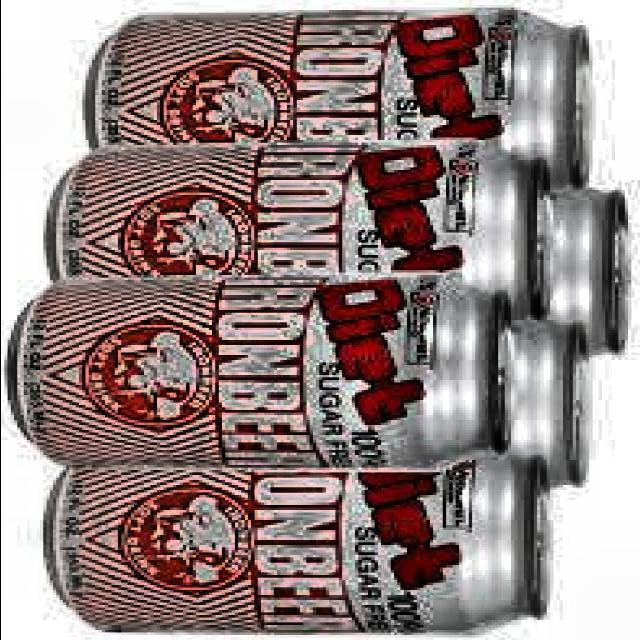litter: (0, 272, 524, 474), (36, 133, 560, 332), (79, 6, 596, 203), (36, 454, 556, 640), (534, 183, 630, 367), (505, 314, 596, 500)
